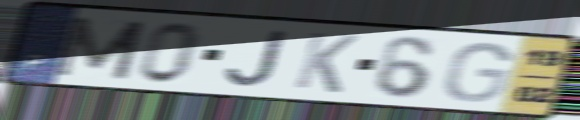0: (135, 19, 203, 86)
6: (371, 34, 439, 102)
G: (440, 40, 515, 104)
J: (222, 27, 292, 89)
K: (290, 29, 363, 96)
M: (49, 14, 150, 82)
